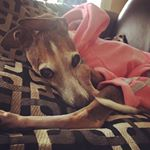puppy: (1, 9, 120, 132)
